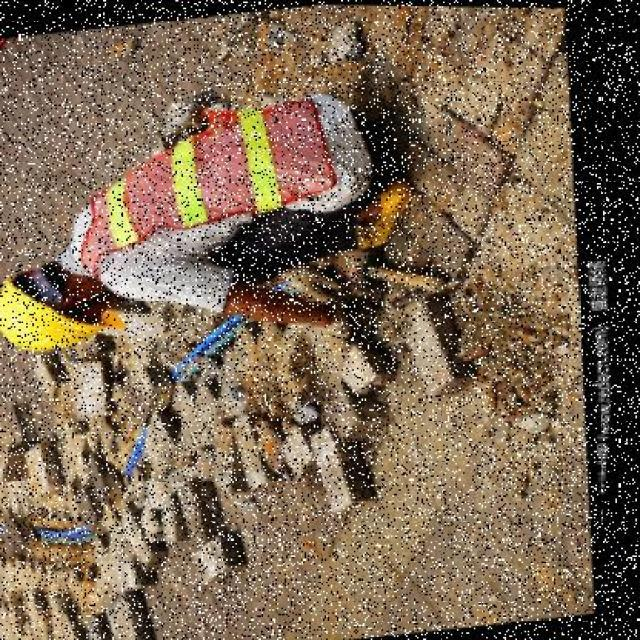helmet: (0, 255, 143, 361)
